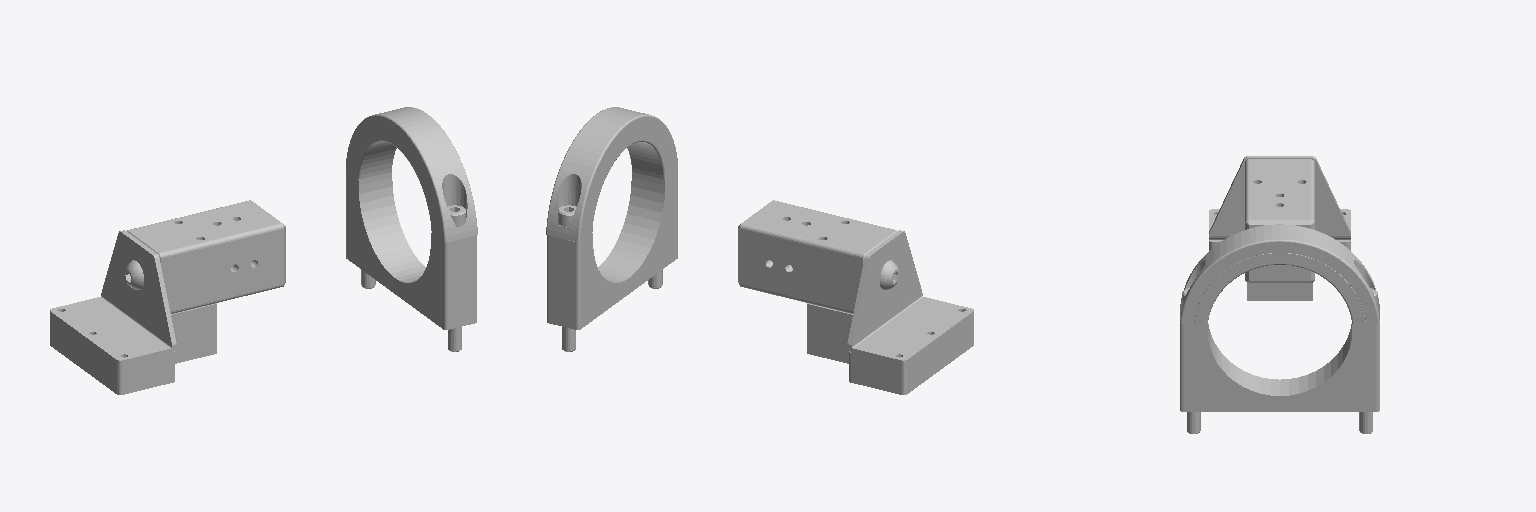
Rendered from processed_left_arm_mount.obj.
3 views of the same model, side by side, from view 1: azimuth 30°, elevation 25°; view 2: azimuth 150°, elevation 25°; view 3: azimuth 270°, elevation 25° (orthographic).
Visible parts, largest first — view 1: left_arm_mount; view 2: left_arm_mount; view 3: left_arm_mount.
Boxes of the visible parts, x1,y1,x2,y2 form: left_arm_mount: [50, 107, 477, 394]; left_arm_mount: [546, 107, 973, 394]; left_arm_mount: [1180, 156, 1379, 433].
Bounding box in the file's own units: 0.227 × 0.1257 × 0.1143.